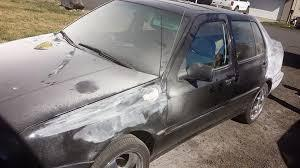fender-dent: (51, 84, 167, 145)
